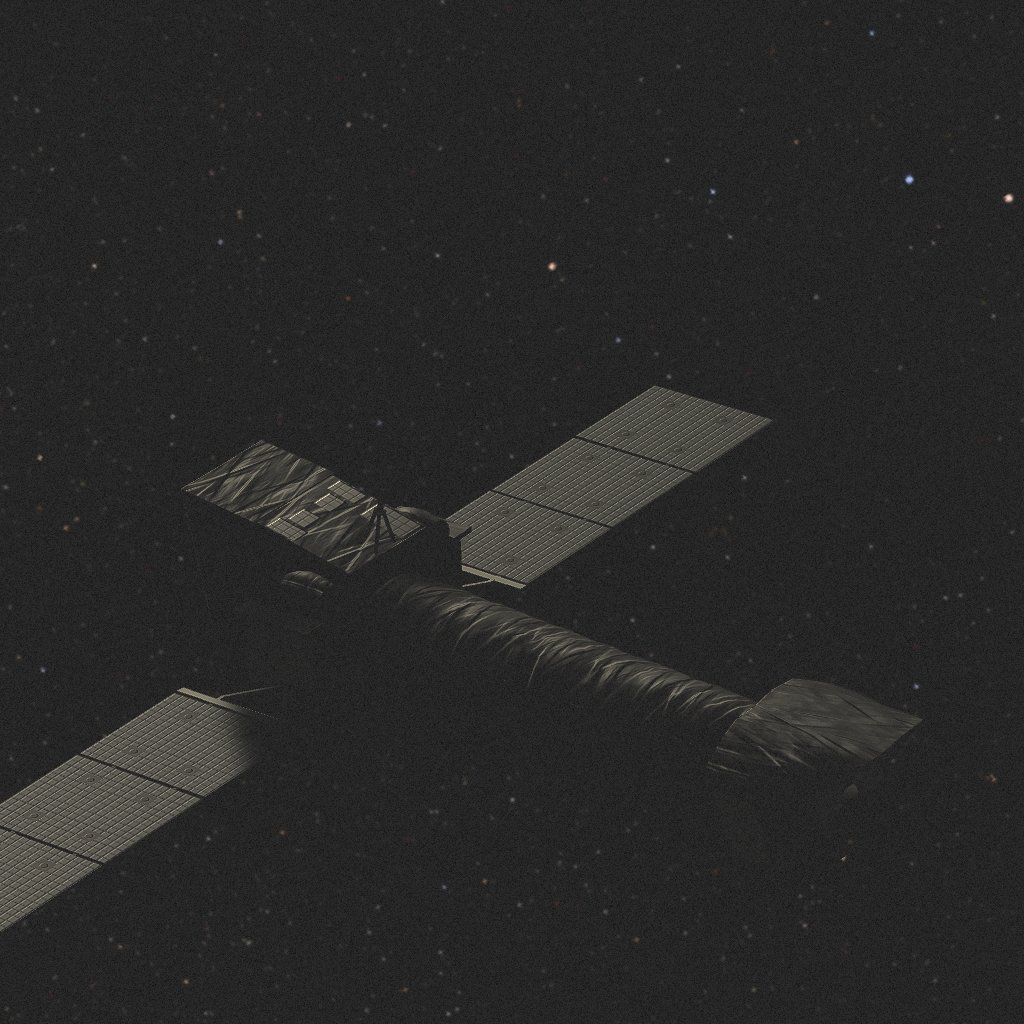xmm_newton: (0, 386, 922, 935)
